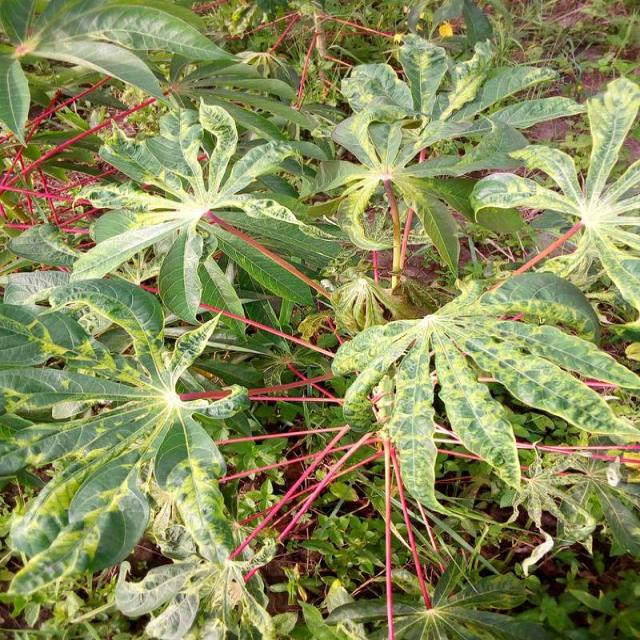cassava leaf: (0, 4, 638, 637), (331, 269, 638, 516), (70, 94, 342, 334)
